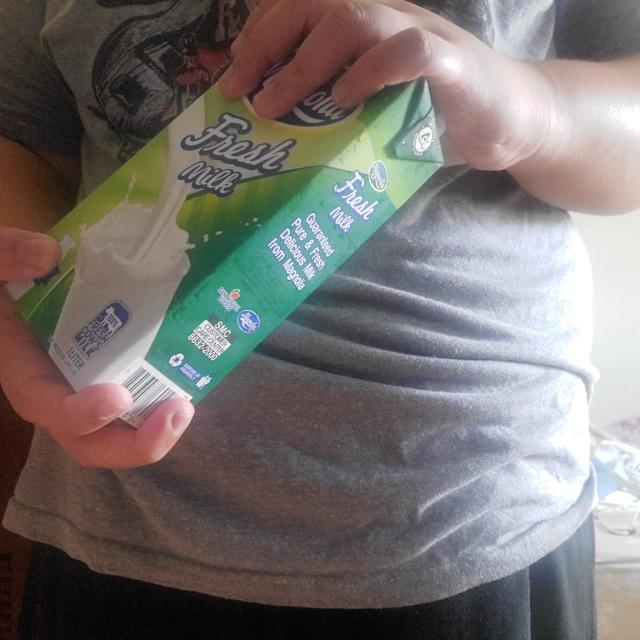milk: (6, 42, 445, 426)
